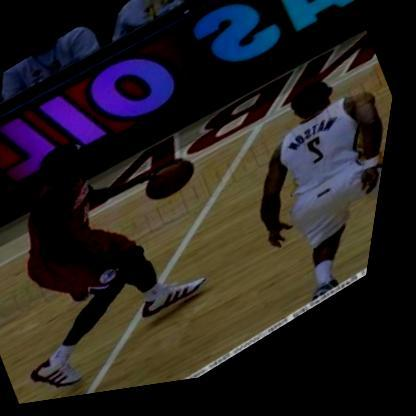basketball: (135, 148, 215, 223)
